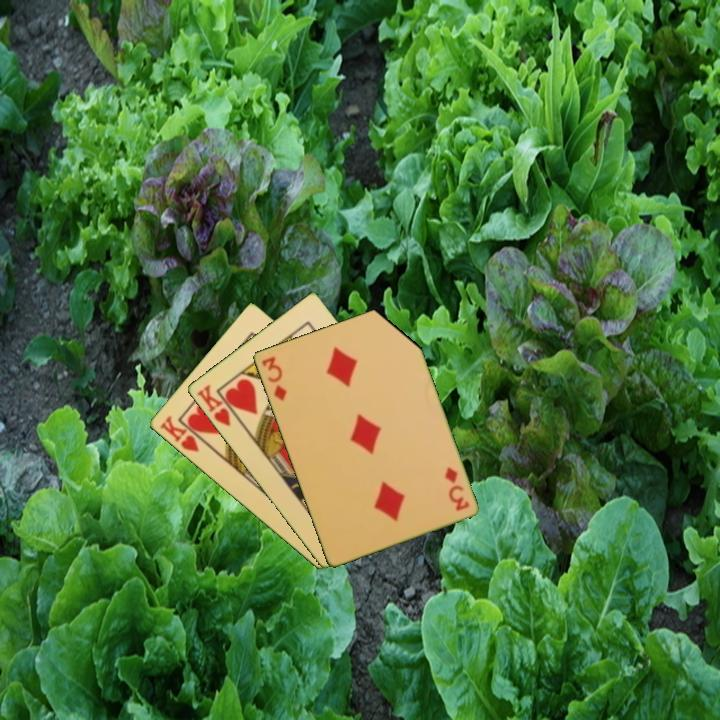3d: (257, 353, 289, 404), (441, 463, 472, 514)
Kh: (155, 412, 210, 455), (193, 381, 242, 429)
